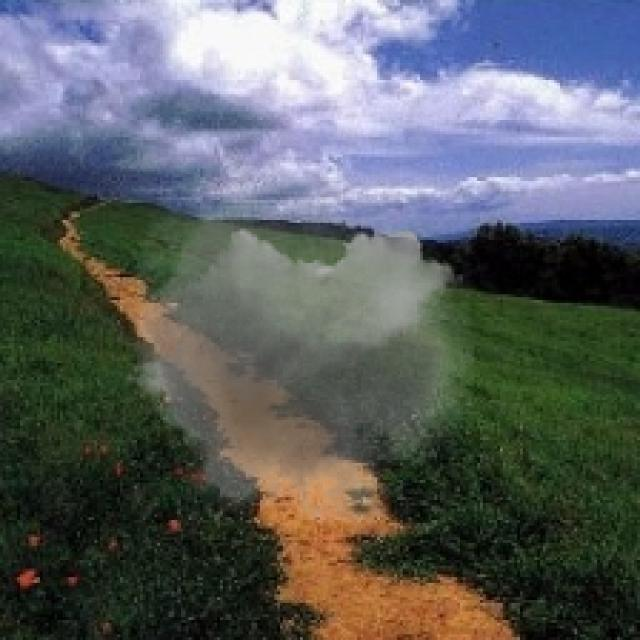smoke: (114, 148, 477, 546)
